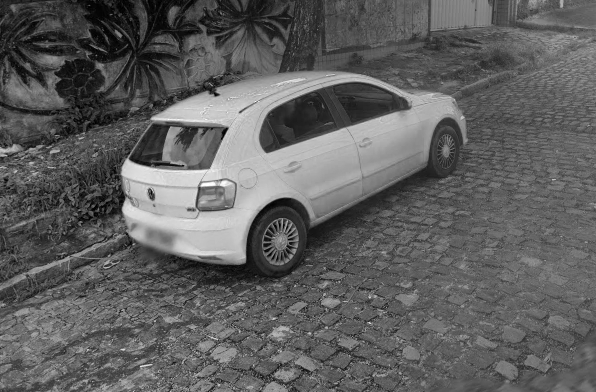car: (119, 68, 471, 280)
